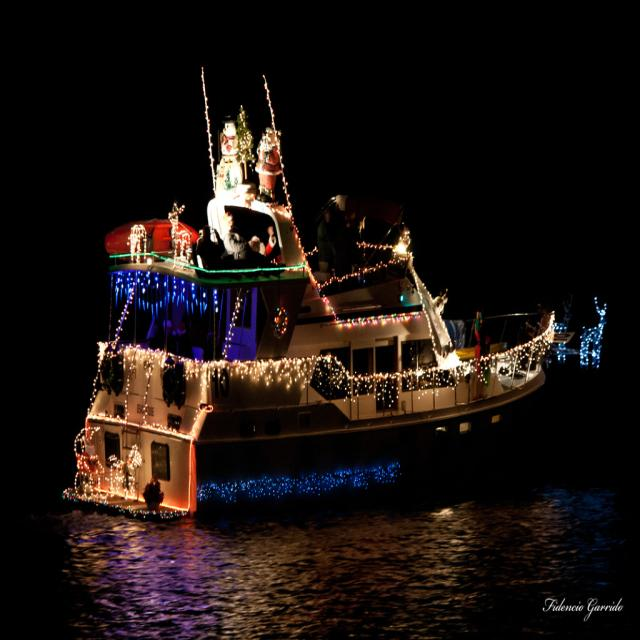Boat: (56, 122, 584, 500)
